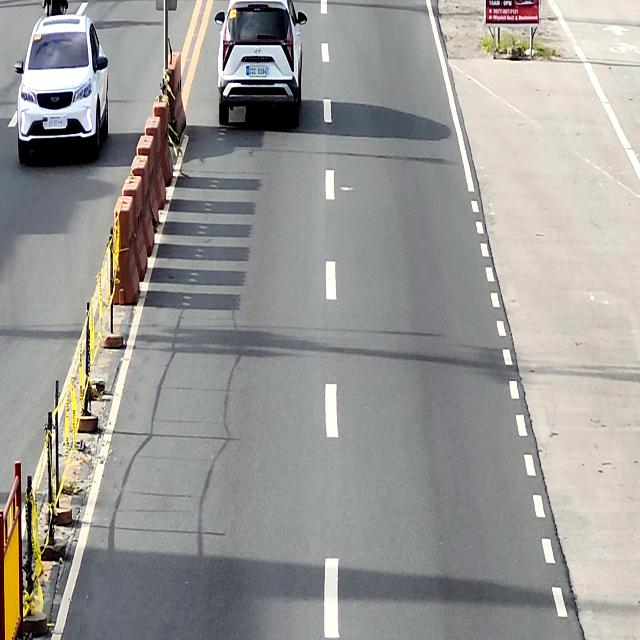Car: (13, 12, 108, 163), (214, 0, 307, 126)
License-Plate: (46, 116, 66, 128), (248, 64, 267, 76)
